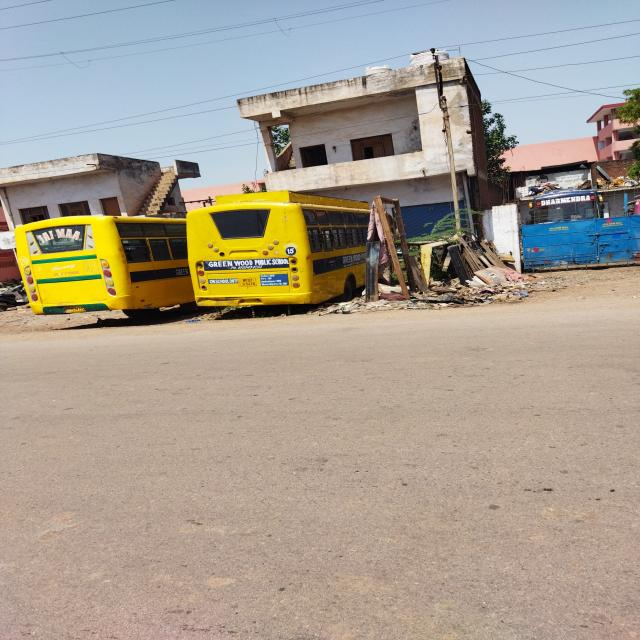Bus: (181, 185, 405, 316), (12, 213, 201, 319), (530, 188, 608, 241)
